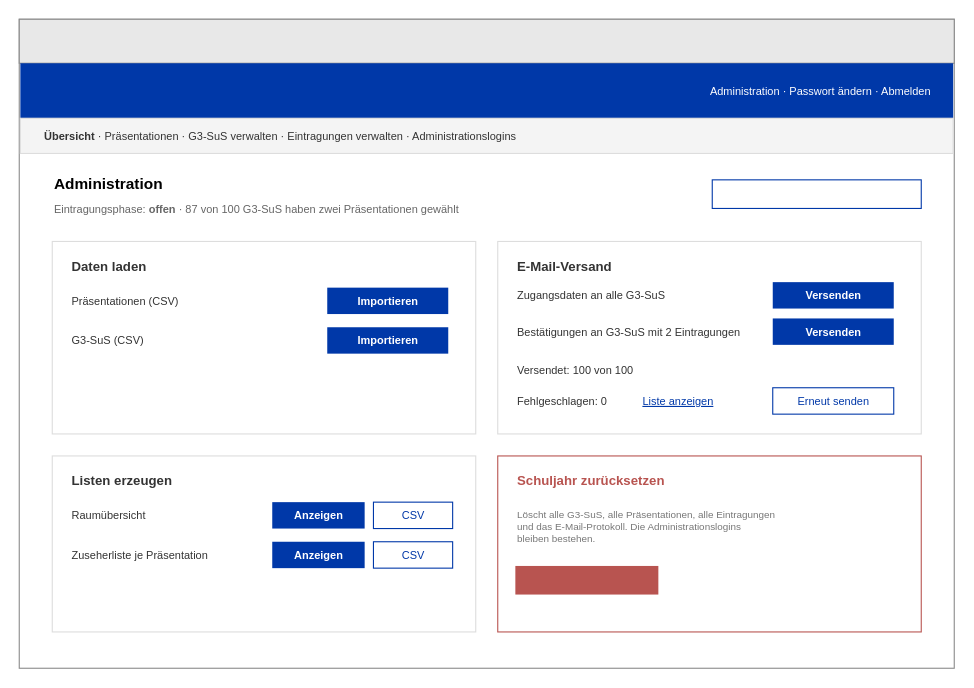
This 974x688 diagram has some shape labels left out. The shapes that lost their labels are listed below. From the top down, each one's box as (x1, y1, x2, y2) in pixels, then its label:
(18, 18, 954, 63): UI-Mockup 4: Administration
(20, 63, 953, 118): Zusehendenverwaltung
(711, 179, 921, 208): Eintragungsphase schliessen
(515, 565, 658, 594): Zurücksetzen
